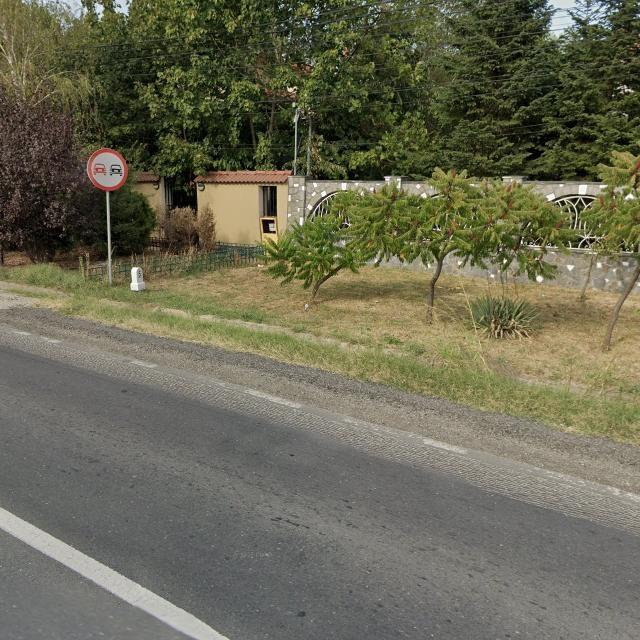forb_overtake: (86, 147, 128, 190)
